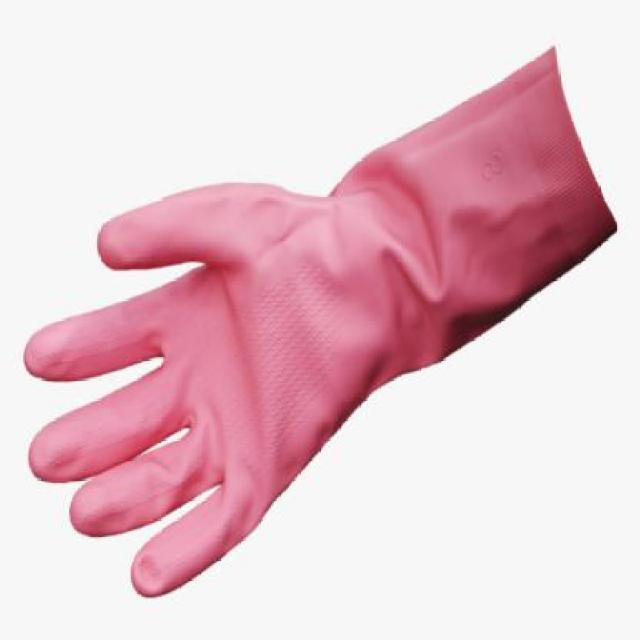Gloves: (25, 48, 620, 594)
